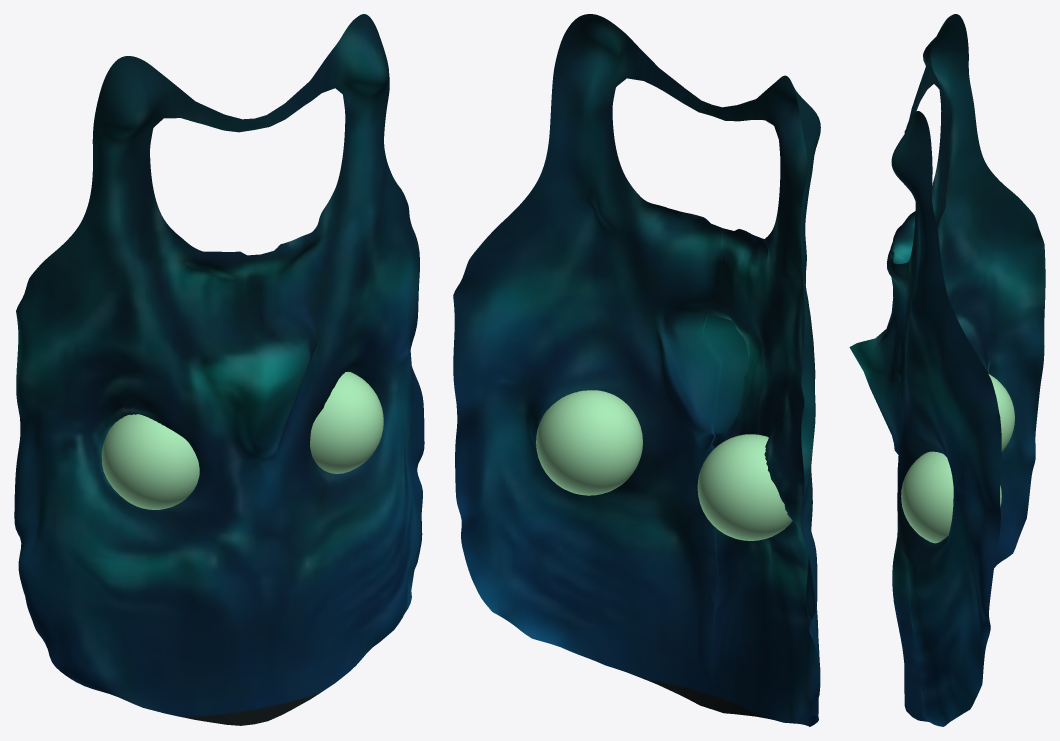
The model's file is Ghost.fbx.
The picture shows the model from 3 angles, left to right: view 1: azimuth 30°, elevation 25°; view 2: azimuth 150°, elevation 25°; view 3: azimuth 270°, elevation 25°; orthographic projection. The views are drawn at different scales.
Visible parts, largest first — view 1: Circle, Icosphere.002, Icosphere.001; view 2: Circle, Icosphere.001, Icosphere.002; view 3: Circle, Icosphere.001, Icosphere.002.
Part boxes in pixels (x1,y1,x2,y2): Circle: (14,14,424,725); Icosphere.002: (101,414,199,509); Icosphere.001: (310,372,383,473); Circle: (453,14,820,726); Icosphere.001: (536,390,642,495); Icosphere.002: (697,434,792,540); Circle: (849,14,1045,726); Icosphere.001: (901,451,1001,543); Icosphere.002: (988,374,1014,451).
Size of the model in its own units: 270 by 455 by 127.
